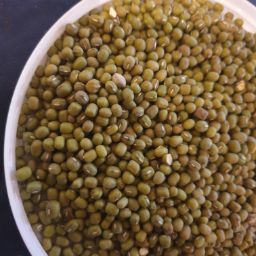Green gram dal(moong): (86, 28, 169, 256), (34, 4, 256, 86), (16, 67, 103, 256), (162, 5, 226, 256), (92, 85, 232, 191), (213, 2, 256, 256)
